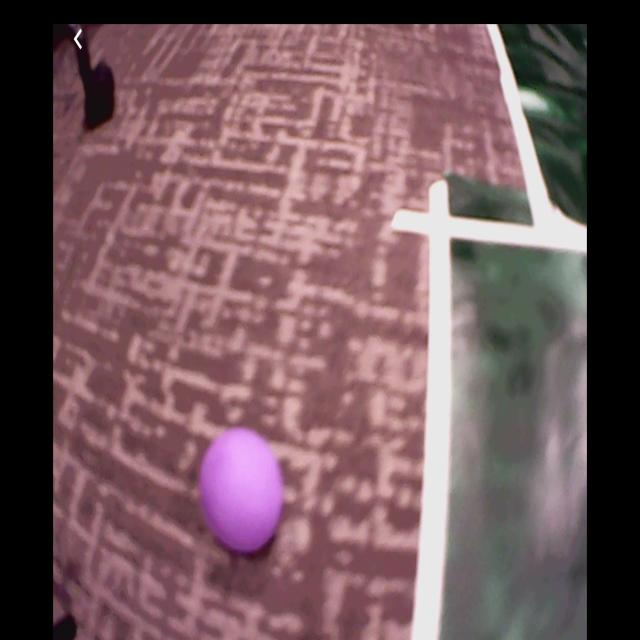ball: (198, 425, 286, 557)
